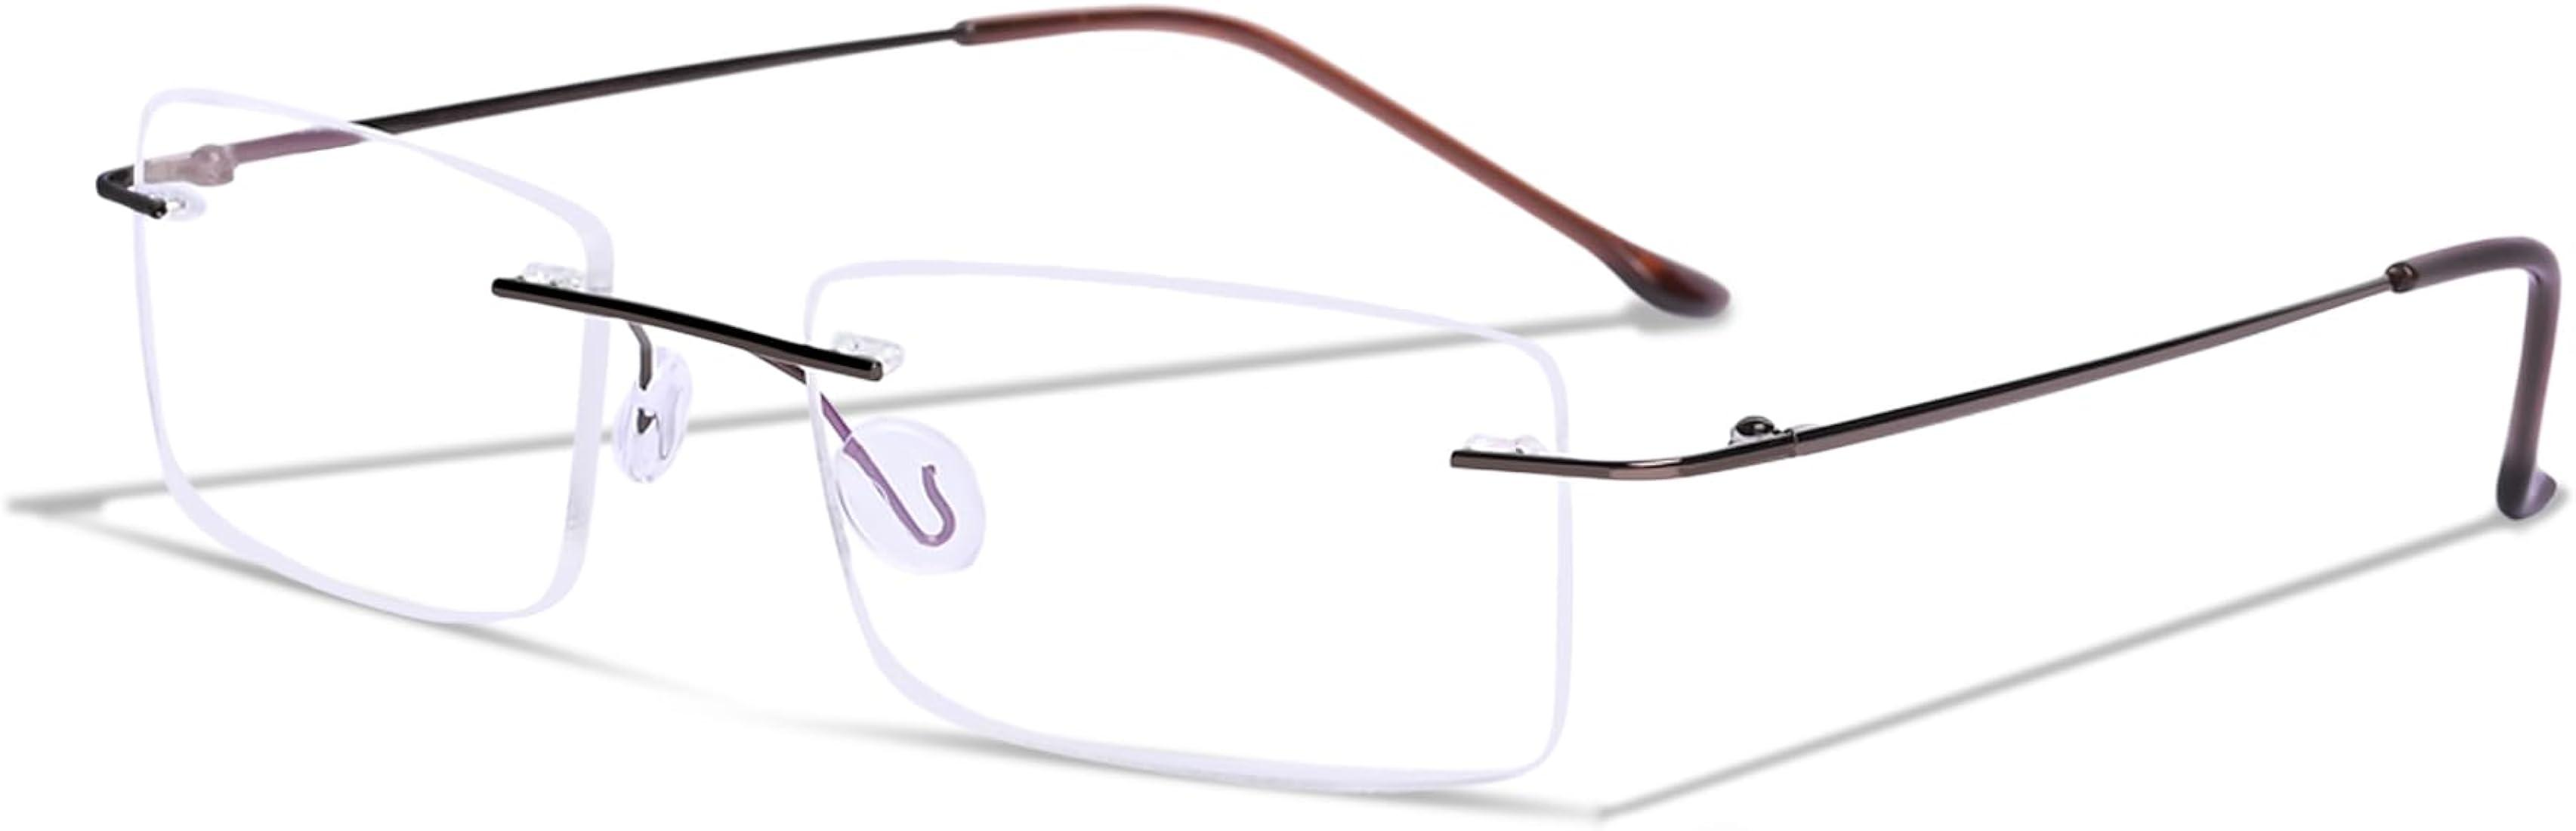spectacles: (10, 54, 2568, 823)
